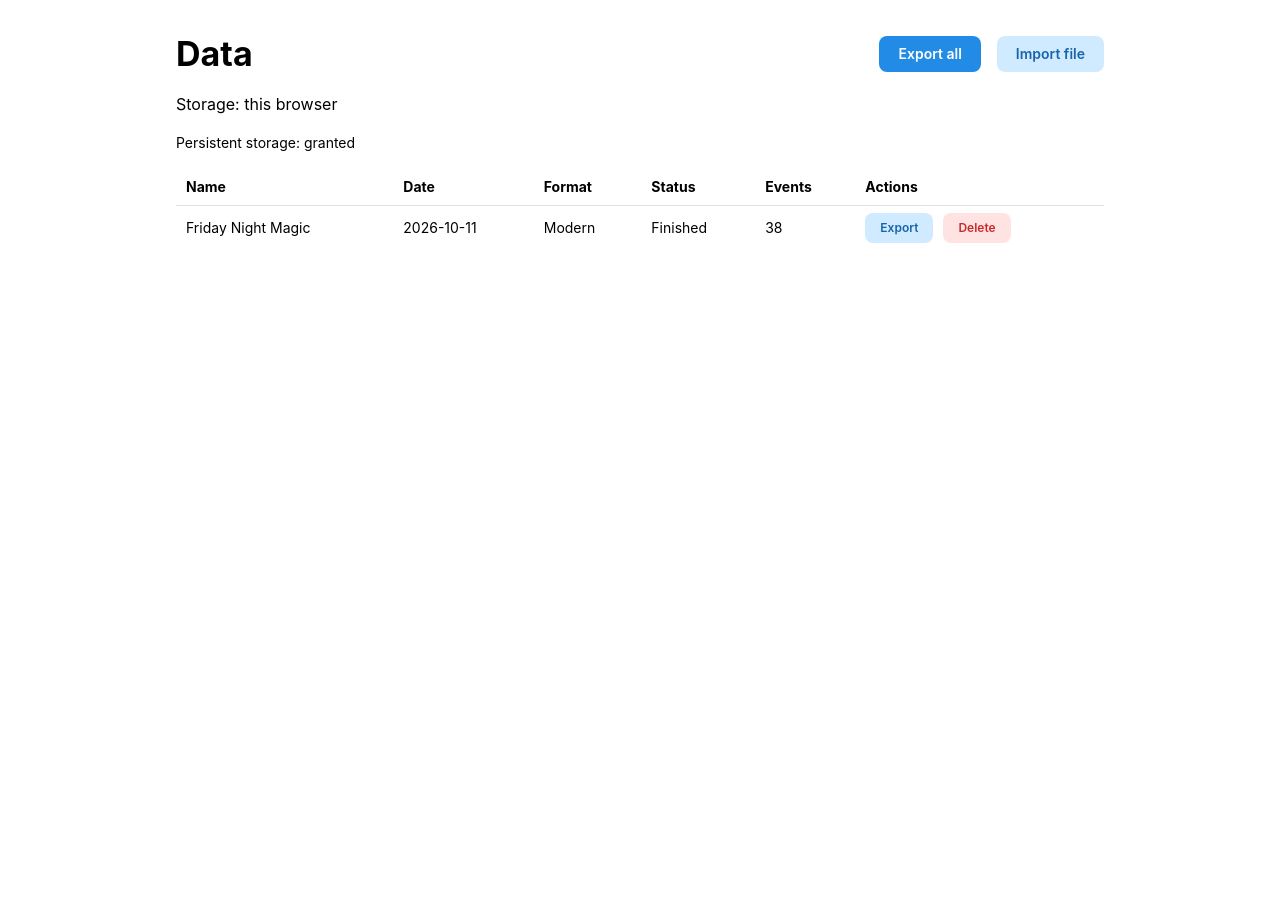
Test case: DataPage delete › keeps the row on cancel
The width and height of the screenshot is (1280, 900).
Click the button "Delete": (977, 228) [943,213,1011,243]
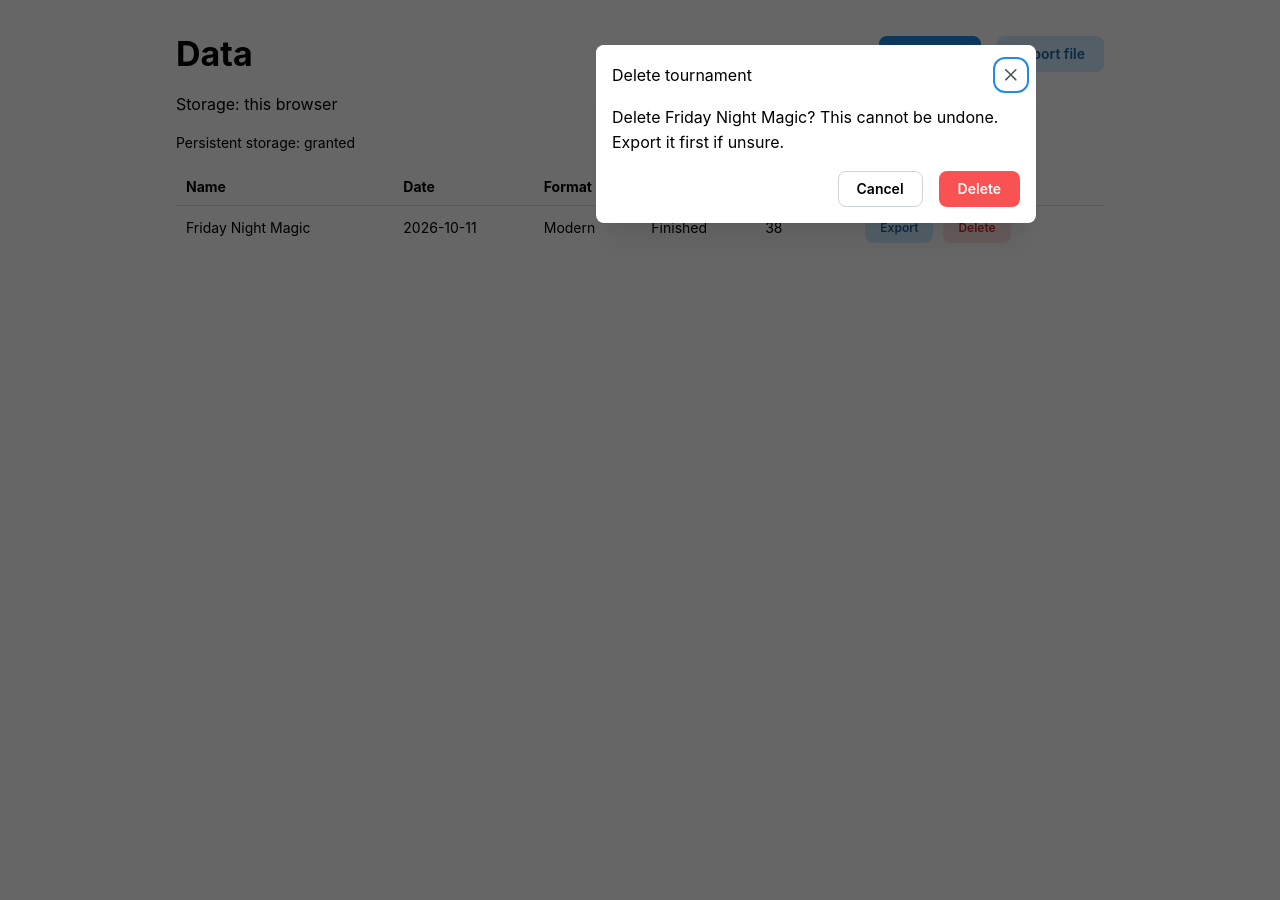
Check: the text "Delete Friday Night Magic? This cannot be undone. Export it first if unsure." is shown, box [612,105,1020,155]
Click the button "Cancel": (880, 189) [838,171,922,207]
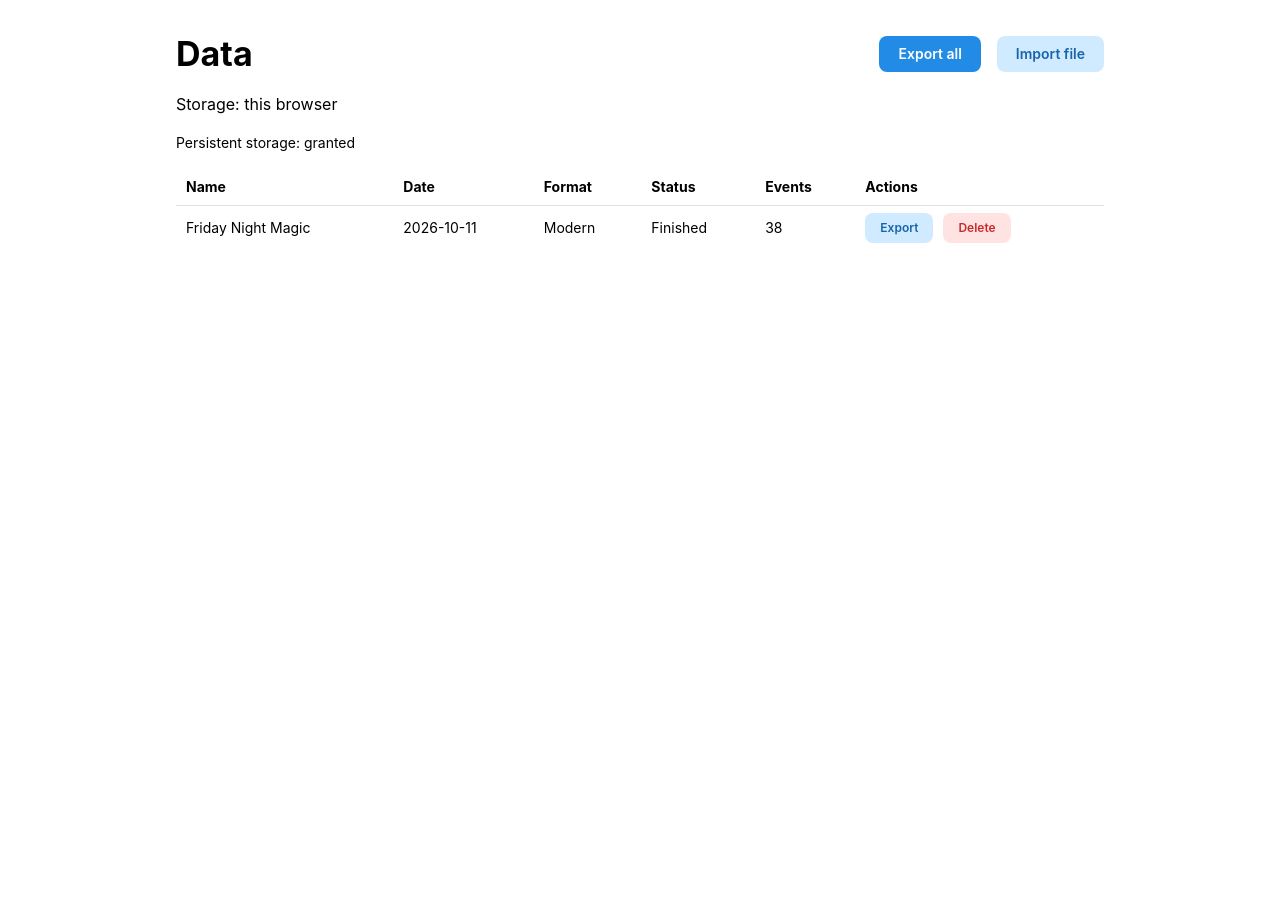
Check: the text "Friday Night Magic" is shown, box [176,206,393,250]
Check: the dialog is gone
